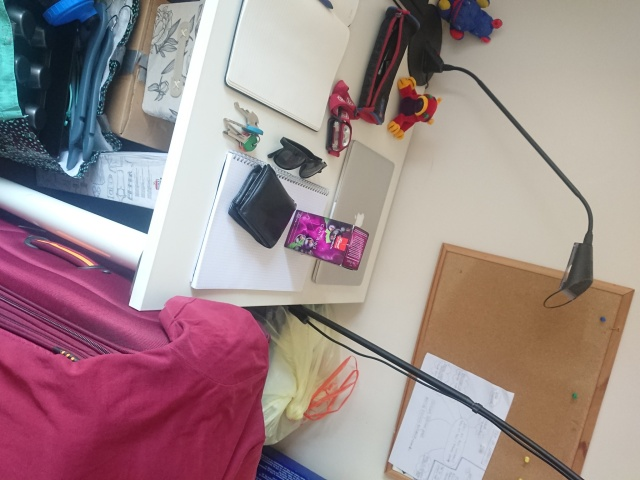Franck Black Currant Tea 60g: (282, 207, 371, 273)
